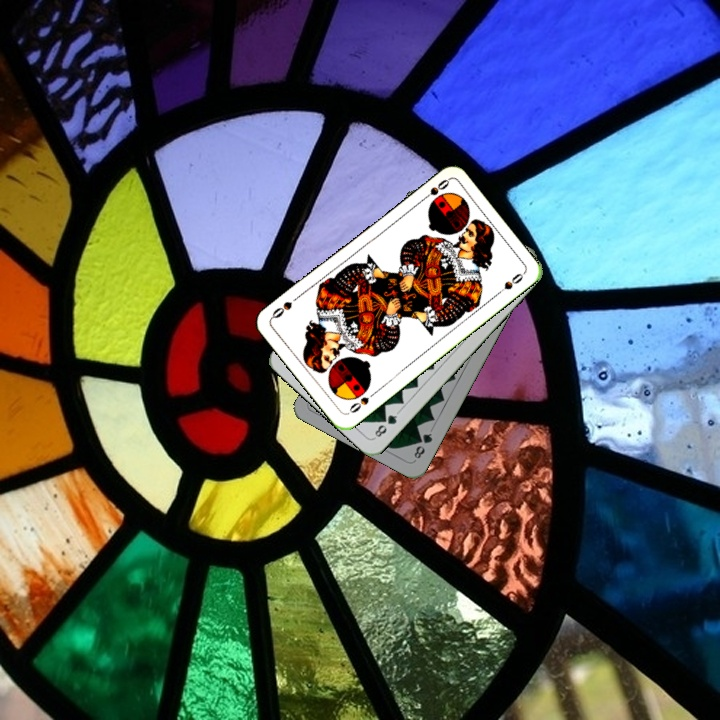G8: (370, 408, 401, 441), (410, 429, 435, 462)
SO: (416, 175, 452, 205), (344, 387, 379, 416)
